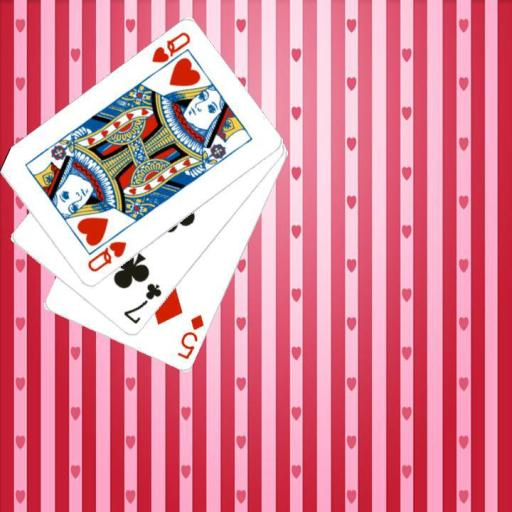5D: (174, 312, 206, 362)
7C: (120, 281, 164, 327)
QH: (148, 29, 192, 77), (84, 238, 129, 275)
